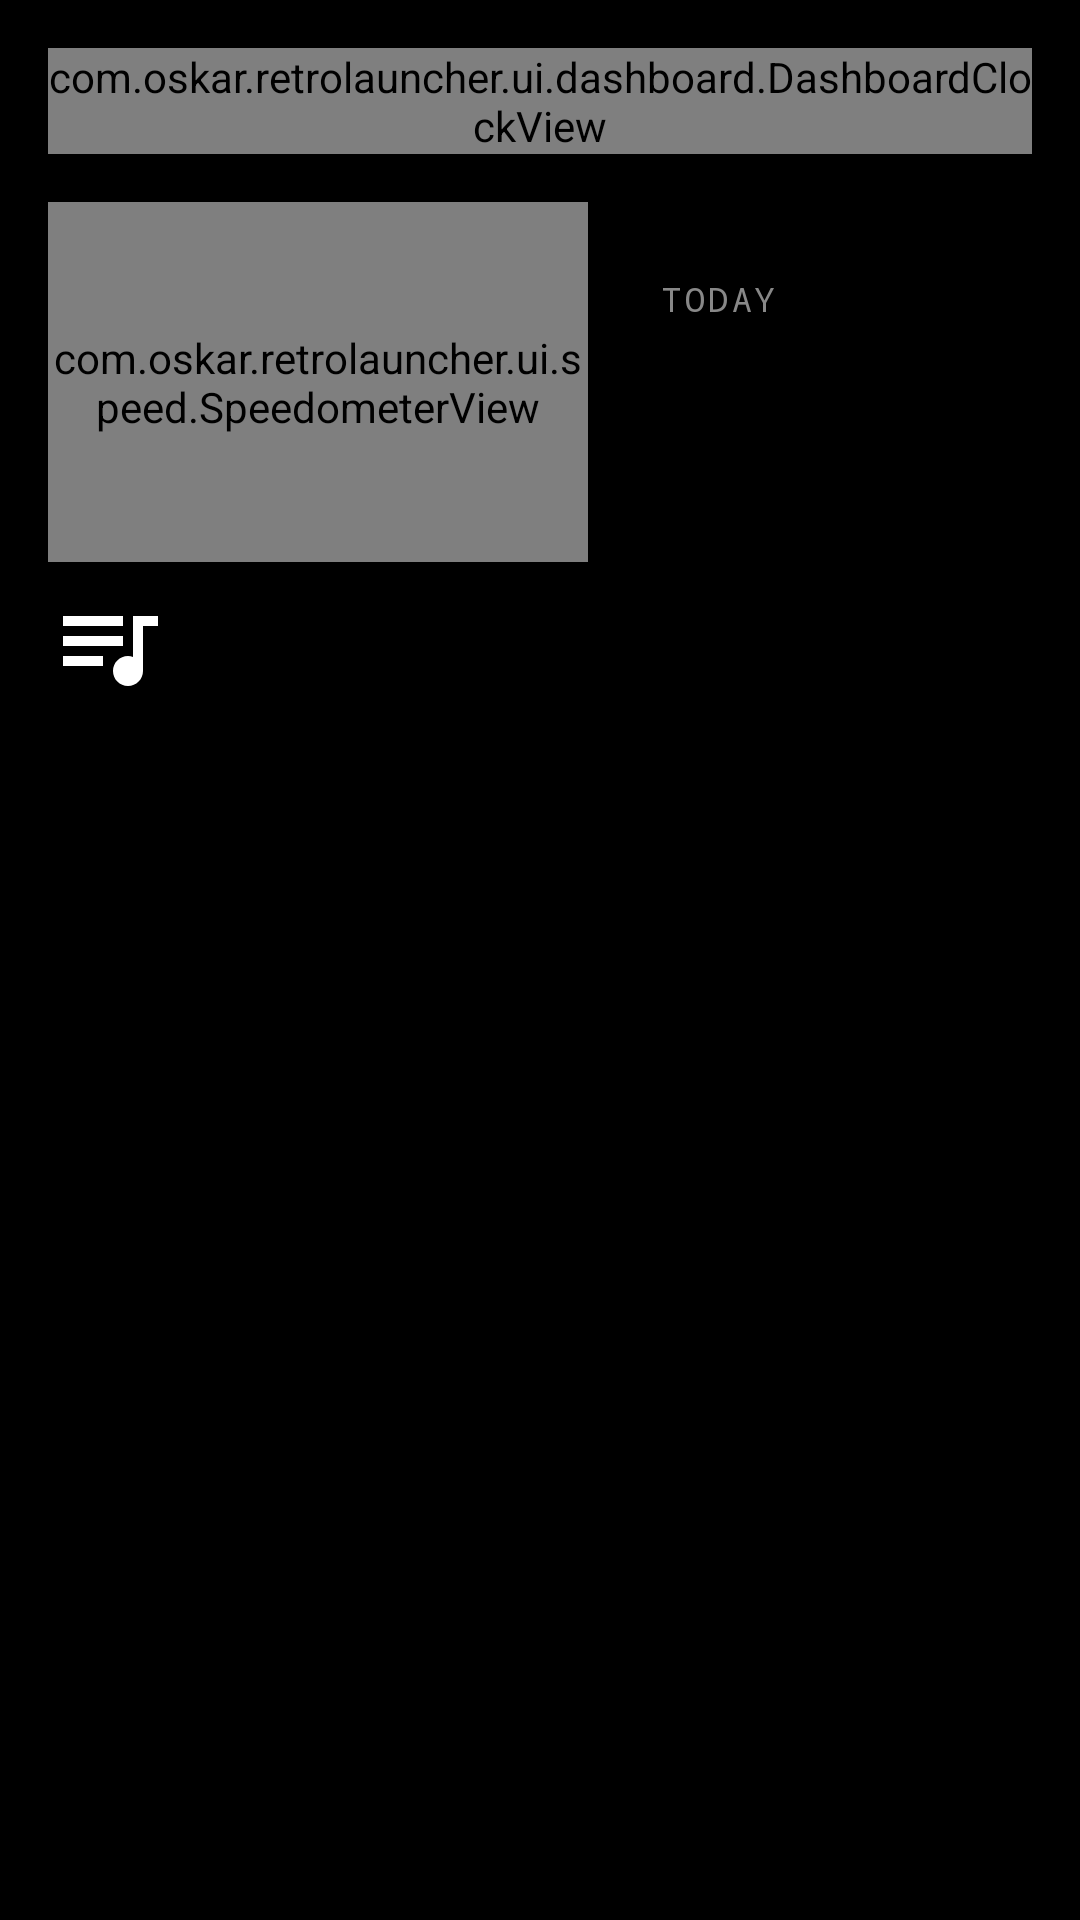

Icon click points for this 1080px x 1920px phone screenshot, format (x,y):
Queue: (110,651)
